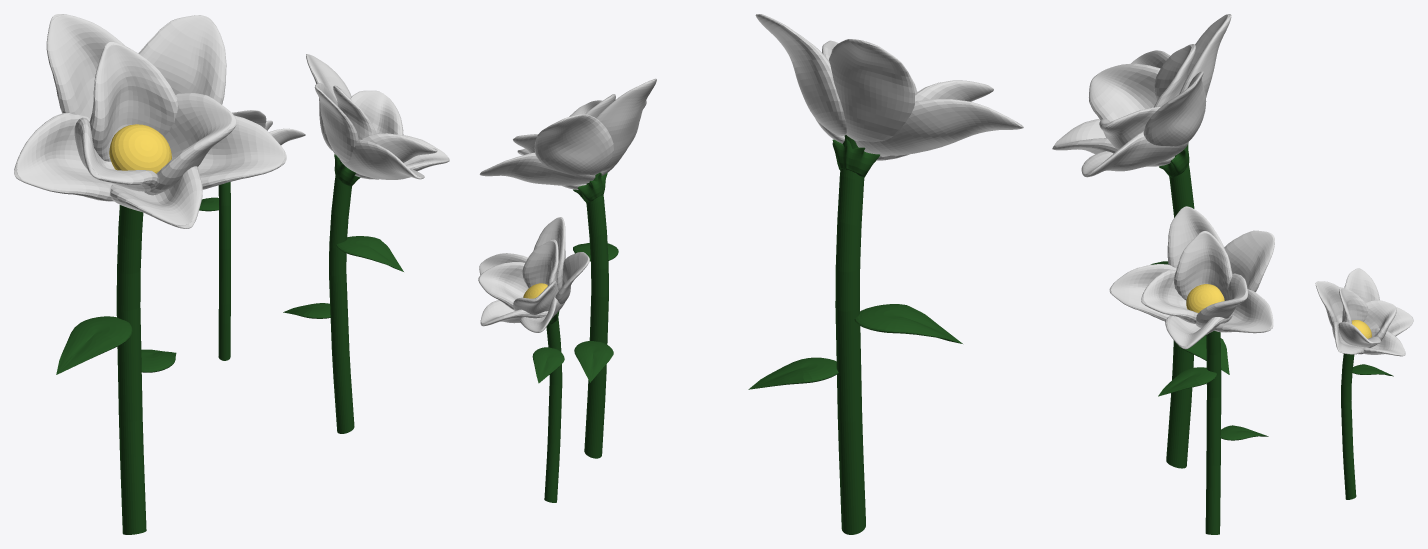
The model's file is Flower.glb.
3 views of the same model, side by side, from view 1: azimuth 30°, elevation 25°; view 2: azimuth 150°, elevation 25°; view 3: azimuth 270°, elevation 25° (orthographic). The views are drawn at different scales.
Visible parts, largest first — view 1: Petal.001, Petal, Cylinder.001, Cylinder, Sphere.003, Sphere.002, Cylinder.002, Sphere.001, Petal.002; view 2: Petal.001, Cylinder.001, Petal, Petal.002, Cylinder, Sphere.003, Cylinder.002, Sphere.001, Torus.001, Sphere.005; view 3: Petal.001, Petal, Petal.002, Cylinder.001, Cylinder, Cylinder.002, Sphere.001, Sphere, Sphere.003, Torus.001.
Part boxes in pixels (left/top/right/bottom): Petal.001: left=14, top=14, right=286, bottom=228; Petal: left=306, top=54, right=449, bottom=179; Cylinder.001: left=116, top=205, right=146, bottom=534; Cylinder: left=329, top=160, right=354, bottom=433; Sphere.003: left=56, top=316, right=176, bottom=374; Sphere.002: left=109, top=124, right=171, bottom=173; Cylinder.002: left=218, top=182, right=230, bottom=360; Sphere.001: left=283, top=236, right=403, bottom=318; Petal.002: left=232, top=110, right=305, bottom=145; Petal.001: left=755, top=14, right=1023, bottom=160; Cylinder.001: left=835, top=135, right=865, bottom=534; Petal: left=479, top=78, right=656, bottom=189; Petal.002: left=478, top=217, right=589, bottom=332; Cylinder: left=584, top=172, right=608, bottom=458; Sphere.003: left=748, top=304, right=962, bottom=389; Cylinder.002: left=544, top=318, right=562, bottom=502; Sphere.001: left=573, top=243, right=618, bottom=382; Torus.001: left=832, top=139, right=879, bottom=177; Sphere.005: left=532, top=347, right=564, bottom=383; Petal.001: left=1052, top=14, right=1231, bottom=177; Petal: left=1109, top=206, right=1274, bottom=349; Petal.002: left=1315, top=268, right=1413, bottom=356; Cylinder.001: left=1166, top=153, right=1194, bottom=468; Cylinder: left=1205, top=330, right=1221, bottom=534; Cylinder.002: left=1341, top=353, right=1356, bottom=499; Sphere.001: left=1158, top=367, right=1268, bottom=440; Sphere: left=1186, top=284, right=1224, bottom=312; Sphere.003: left=1150, top=261, right=1229, bottom=374; Torus.001: left=1159, top=143, right=1189, bottom=177.
Size of the model in its own units: 0.9352 by 0.9834 by 0.7447.
